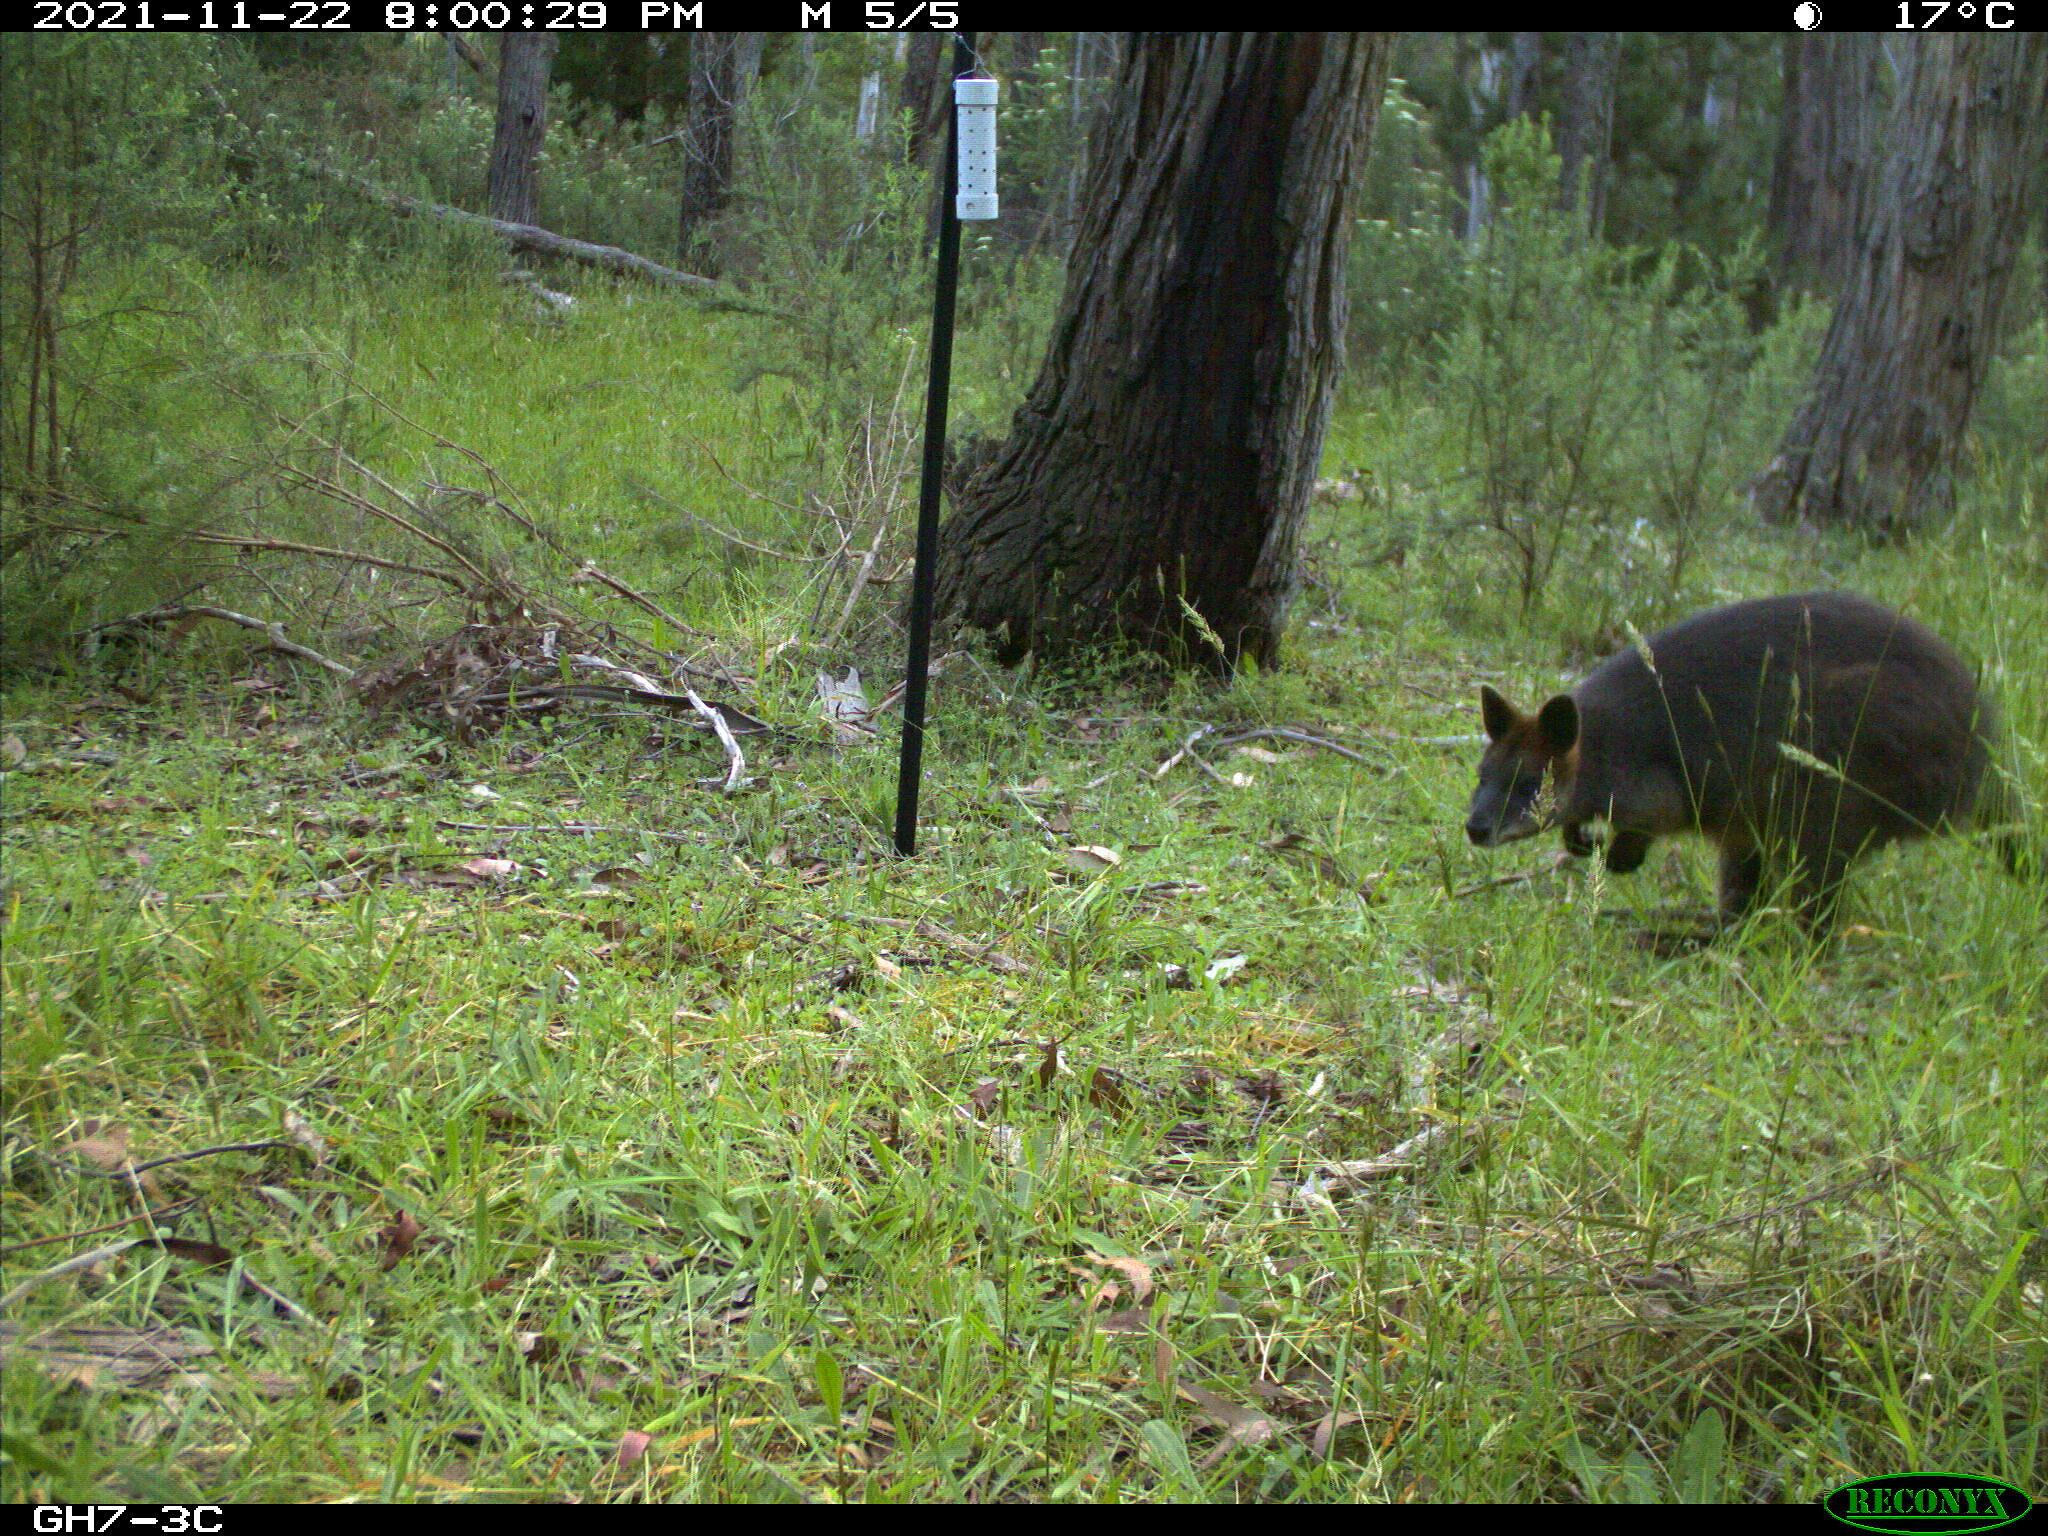Swamp wallaby: (1463, 582, 2037, 976)
